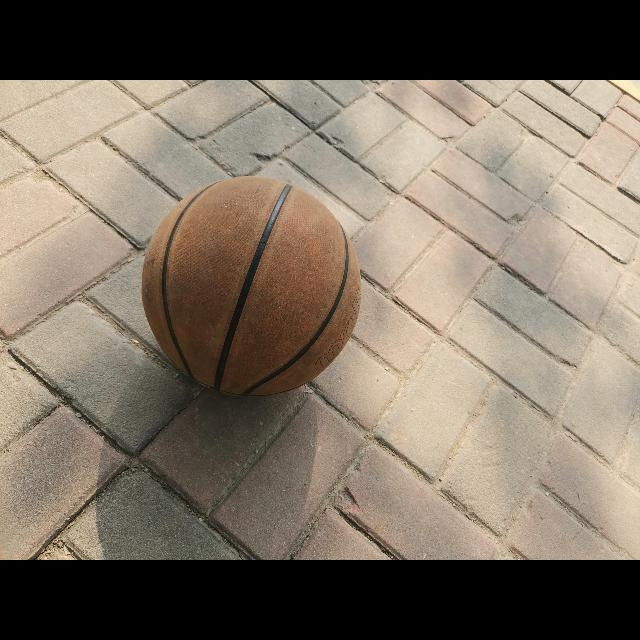basketball: (142, 176, 360, 396)
